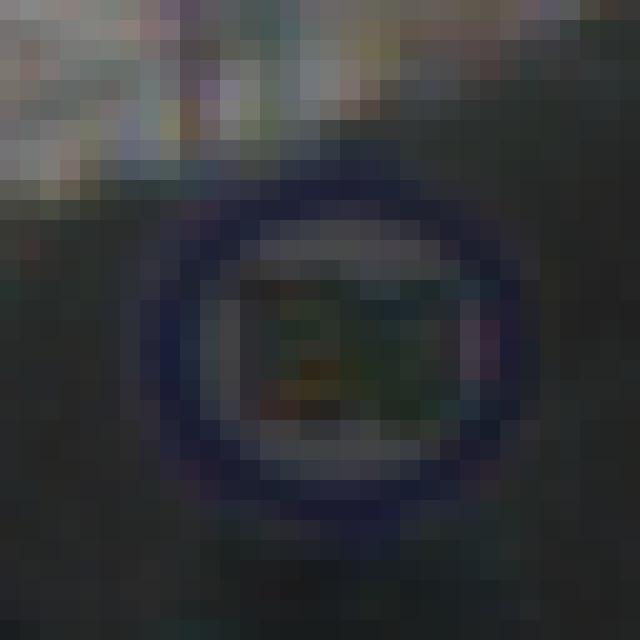SPEED LIMIT 100: (155, 176, 514, 502)
